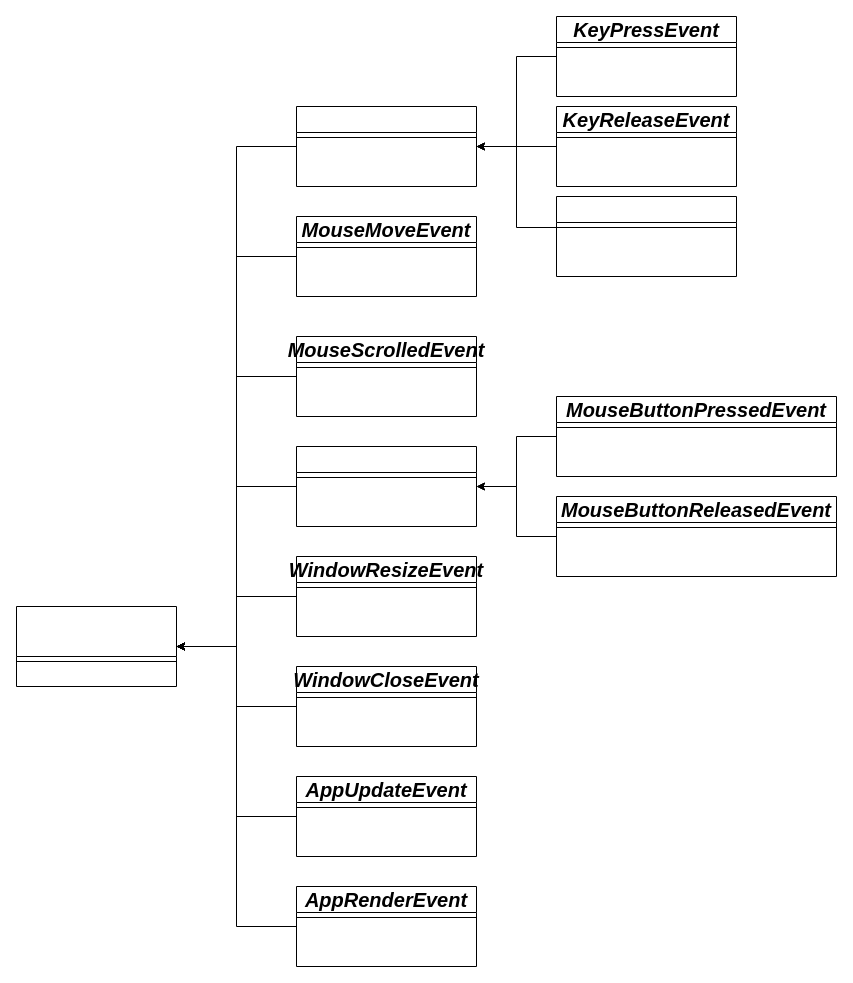
Some shapes in this 853 by 983 pixel diagram are drawn without their labels. Each missing label, with the centre of its shape:
Event: (96,646)
KeyEvent: (386,146)
KeyTypedEvent: (646,236)
MouseButtonEvent: (386,486)
